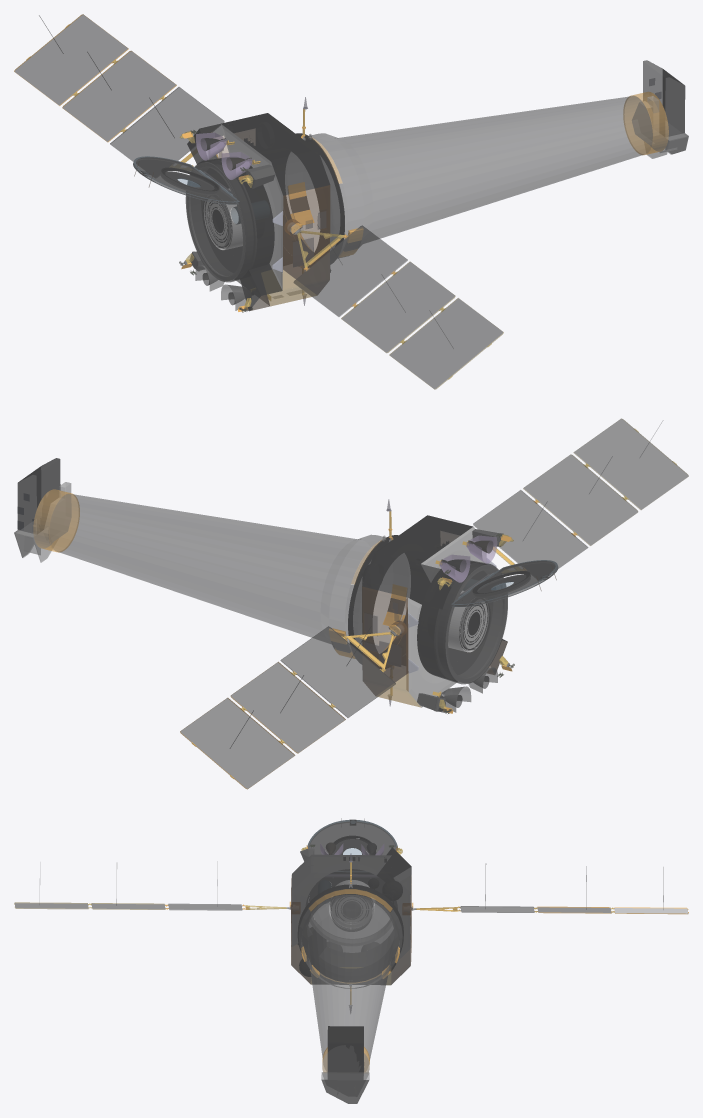
The model's file is entire_spacecraft_opaque.fbx.
The picture shows the model from 3 angles, top to bottom: view 1: azimuth 30°, elevation 25°; view 2: azimuth 150°, elevation 25°; view 3: azimuth 270°, elevation 25°; orthographic projection. The views are drawn at different scales.
Parts seen in each view (by area): view 1: default; view 2: default; view 3: default.
Boxes of the visible parts, x1,y1,x2,y2 form: default: (14,14,688,389); default: (14,418,688,789); default: (14,818,688,1103).
Bounding box in the file's own units: 2.16 × 0.8128 × 3.08.
